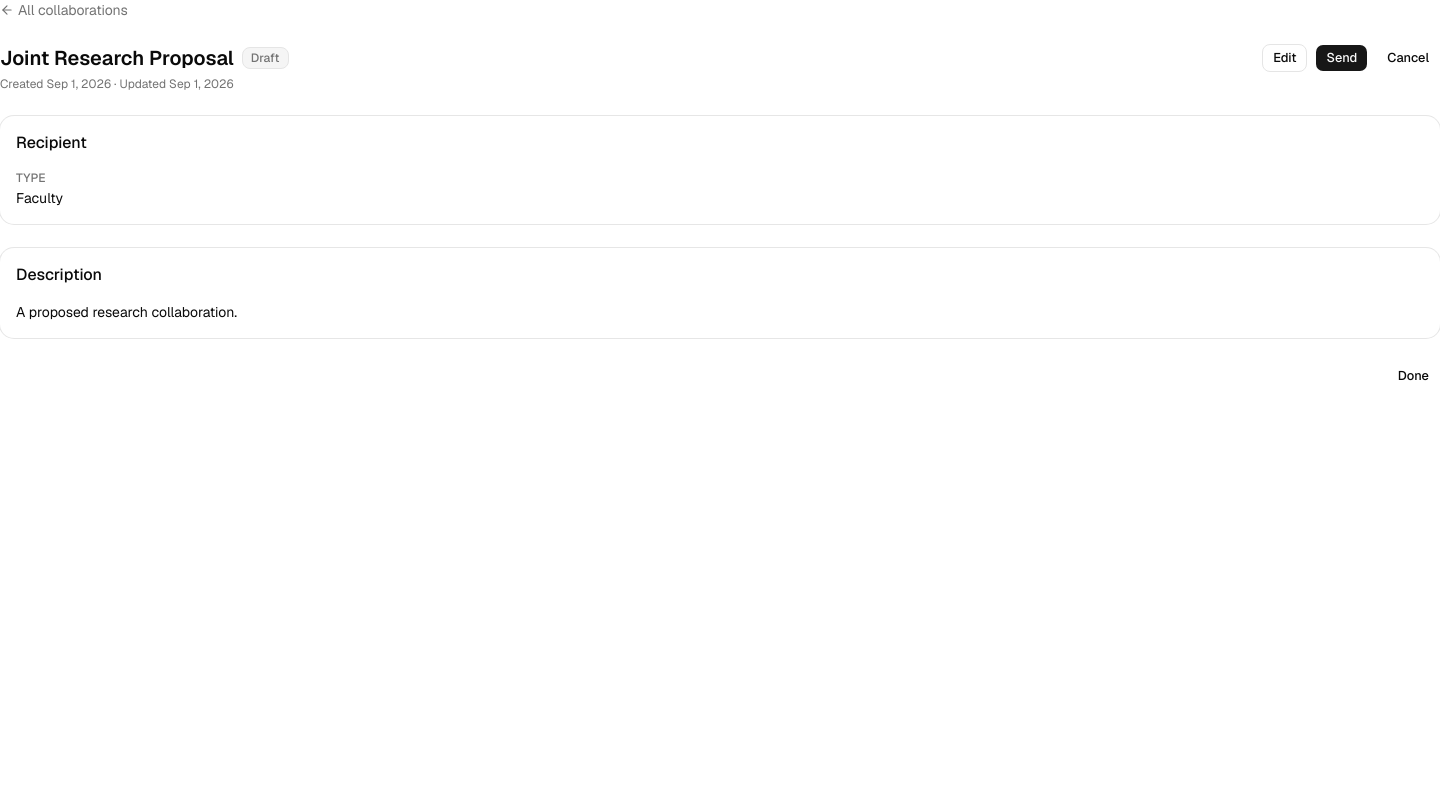
Test: CollaborationDetailView › sends via the confirmation dialog
The image size is (1440, 810).
Expected: the heading "Joint Research Proposal" is shown, [0,44,234,72]
Click the button "Send" at (1342, 58), box [1315,44,1368,72]
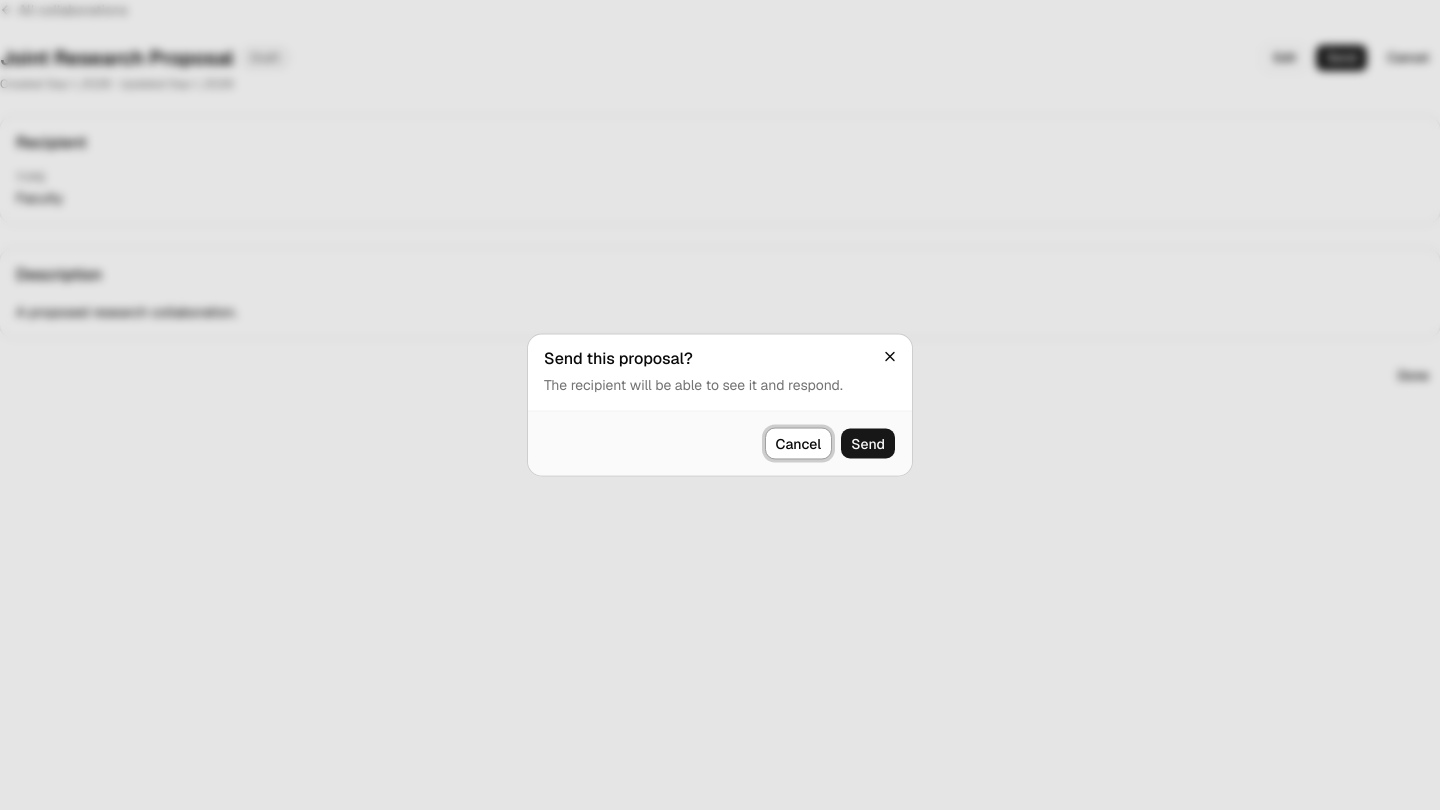
Click the button "Send" at (868, 444), box [840,428,896,460]
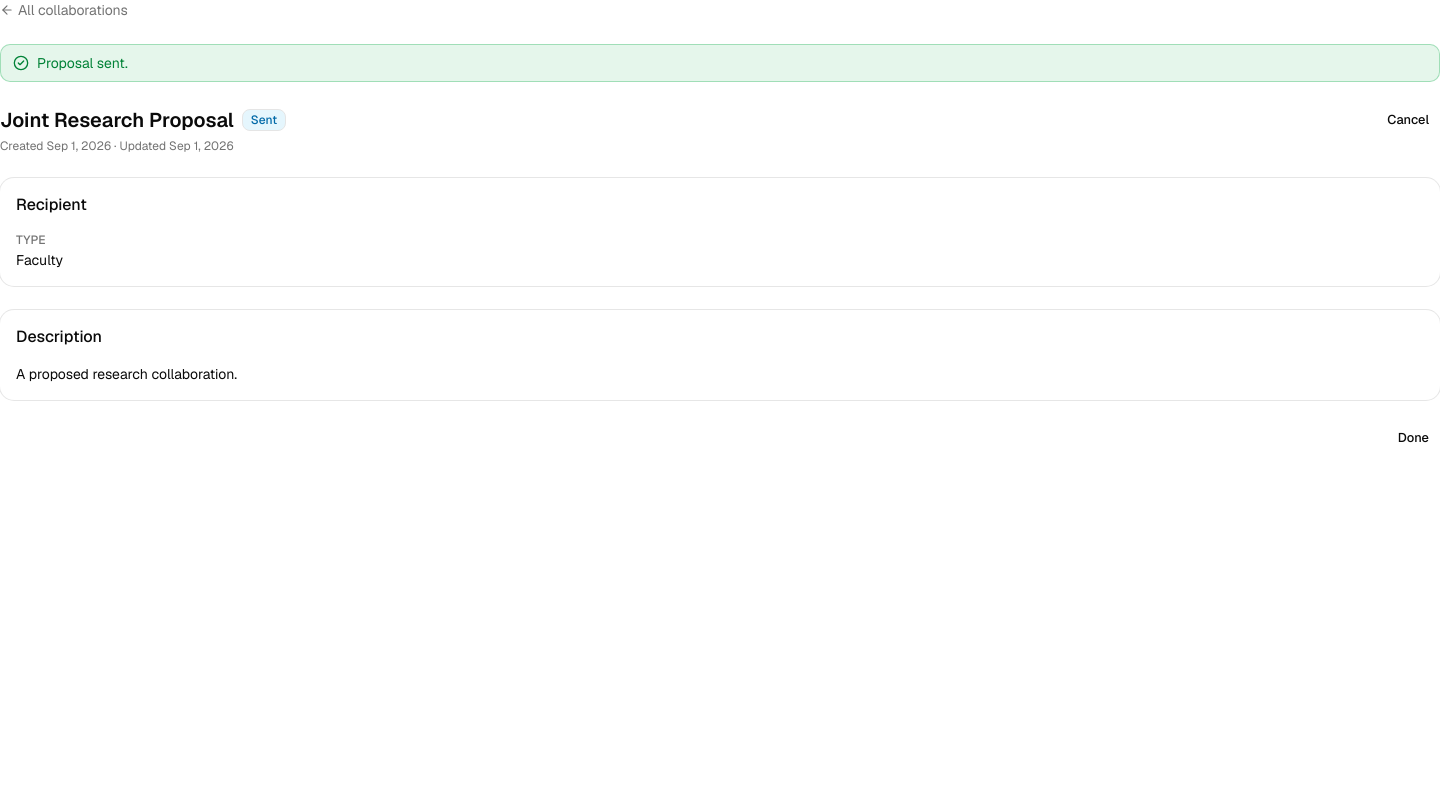
Expected: the text "Proposal sent." is shown, [37,53,128,73]
Expected: the text "Sent" is shown, [242,109,286,131]
